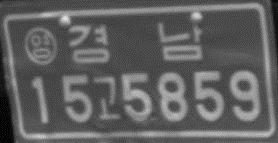1: (28, 74, 54, 126)
5: (192, 69, 225, 122), (61, 73, 94, 124), (121, 70, 153, 122)
8: (158, 70, 188, 122)
9: (228, 68, 262, 123)
경남_D: (67, 18, 204, 64)
고: (92, 74, 123, 123)
영: (23, 25, 58, 66)
